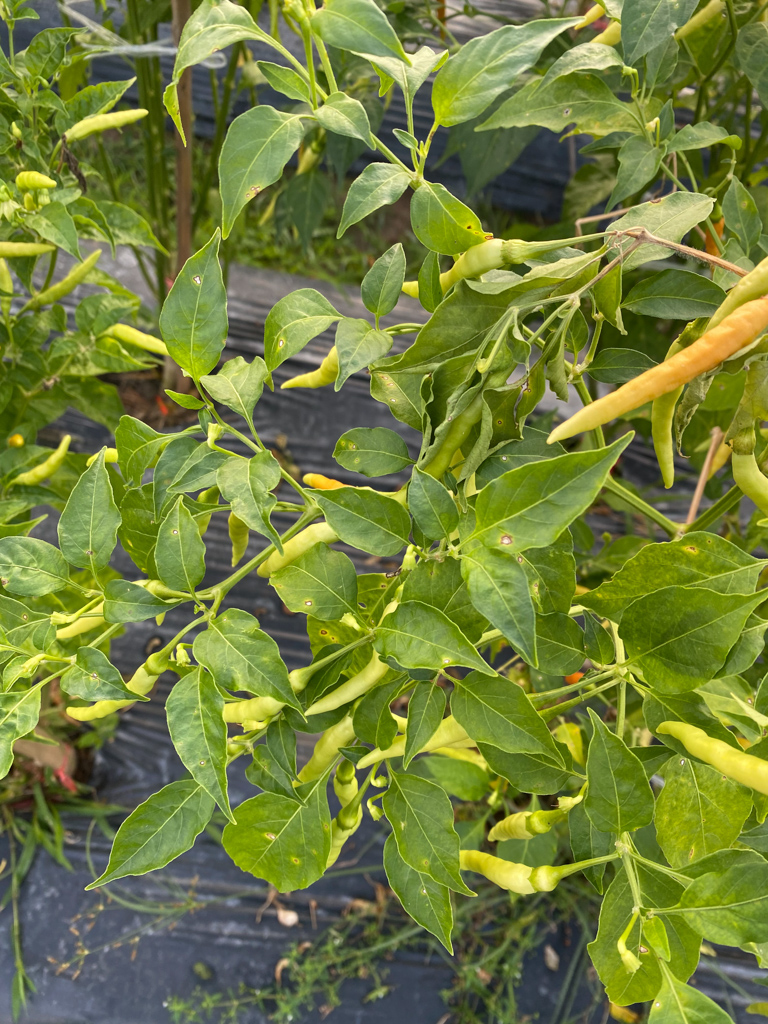frog-eye leafspot: (677, 538, 714, 559), (465, 221, 495, 241), (340, 438, 363, 464), (264, 823, 286, 847), (315, 623, 339, 644), (495, 531, 518, 549), (633, 938, 652, 959), (682, 842, 700, 863), (297, 596, 321, 611), (273, 331, 287, 354), (286, 852, 302, 868), (556, 105, 576, 117), (515, 552, 528, 569), (496, 450, 511, 464), (169, 526, 181, 536), (494, 414, 503, 427)
